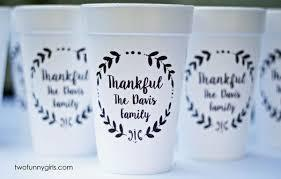Plastic cup: (3, 5, 281, 179)
